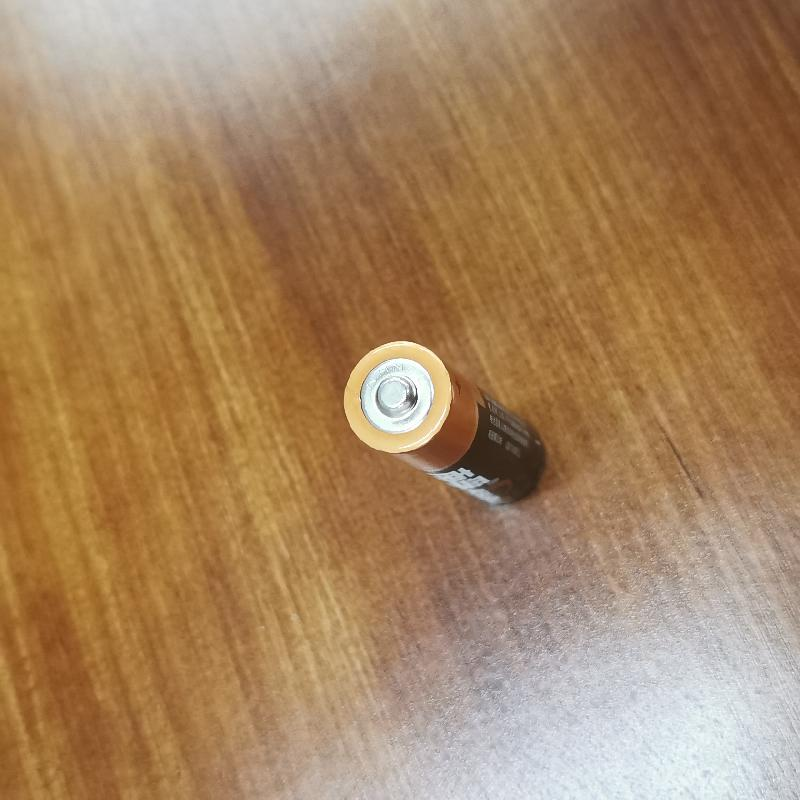battery: (342, 337, 549, 509)
